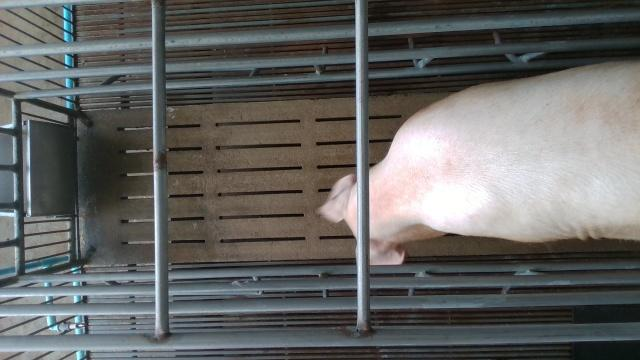sow-stand: (314, 58, 640, 264)
